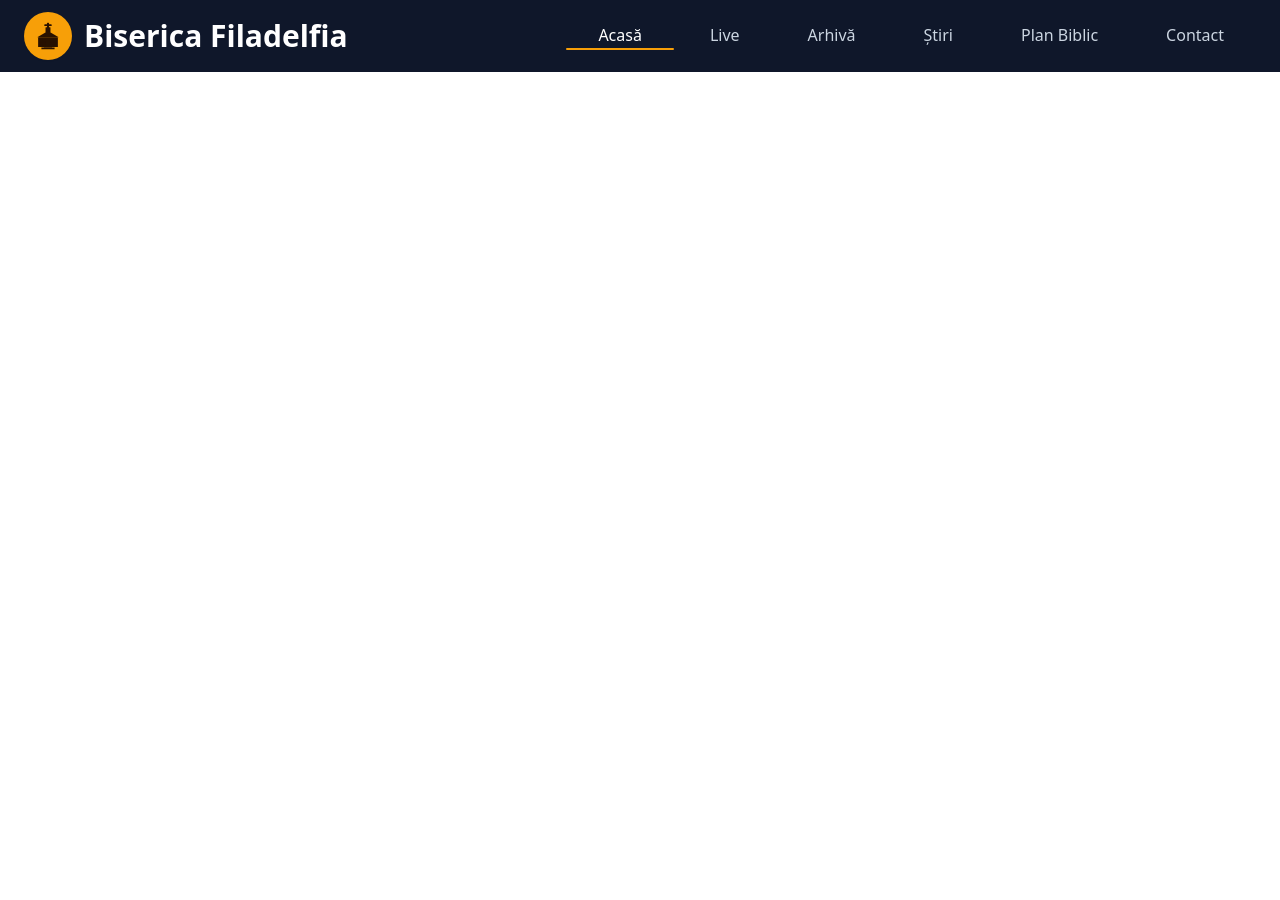
Test: Nav › closes popup when Anulează is clicked
This screenshot has width=1280, height=900.
Click the link "Arhivă": (832, 36) [776,23,888,49]
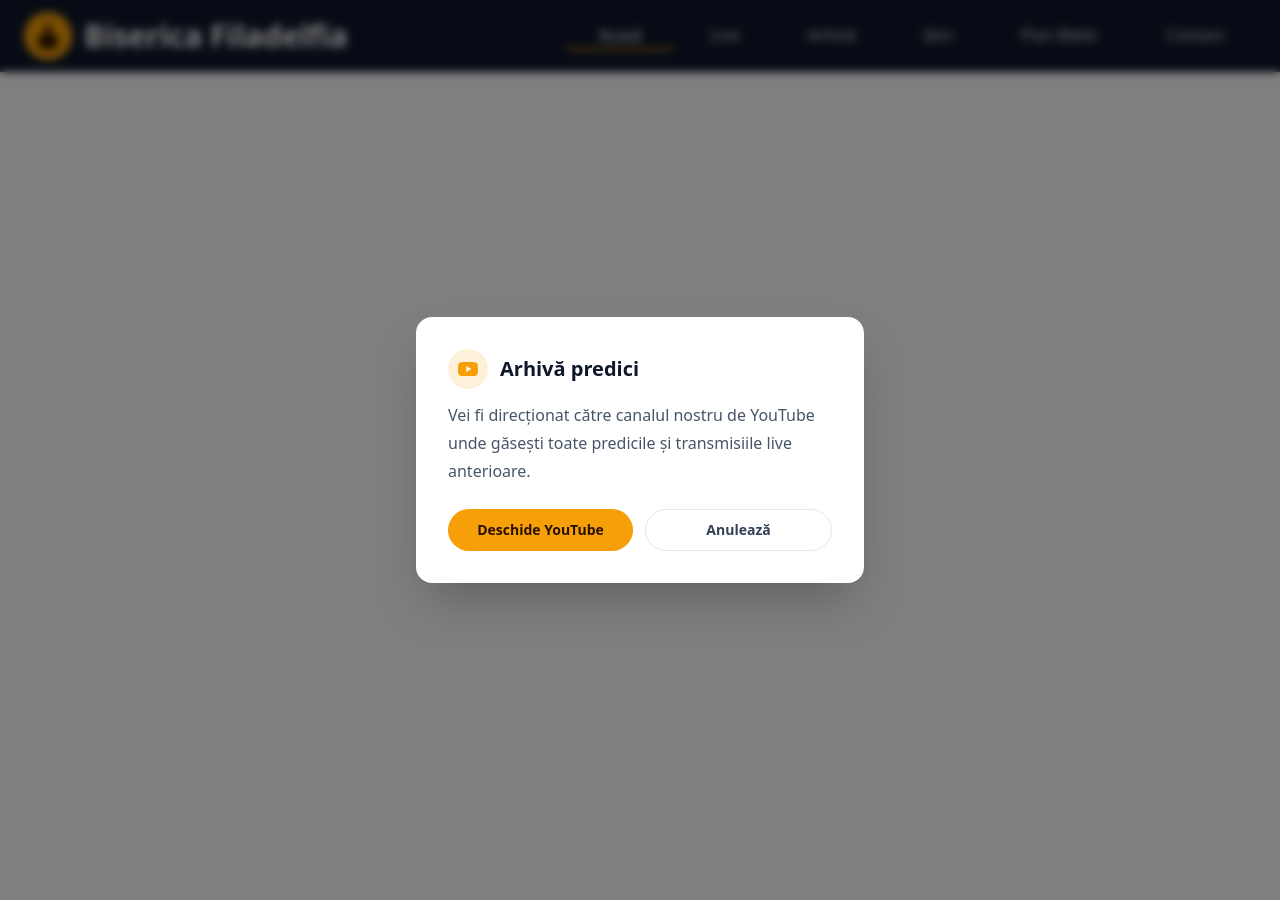
Click the button "Anulează": (738, 530) [645,509,832,551]
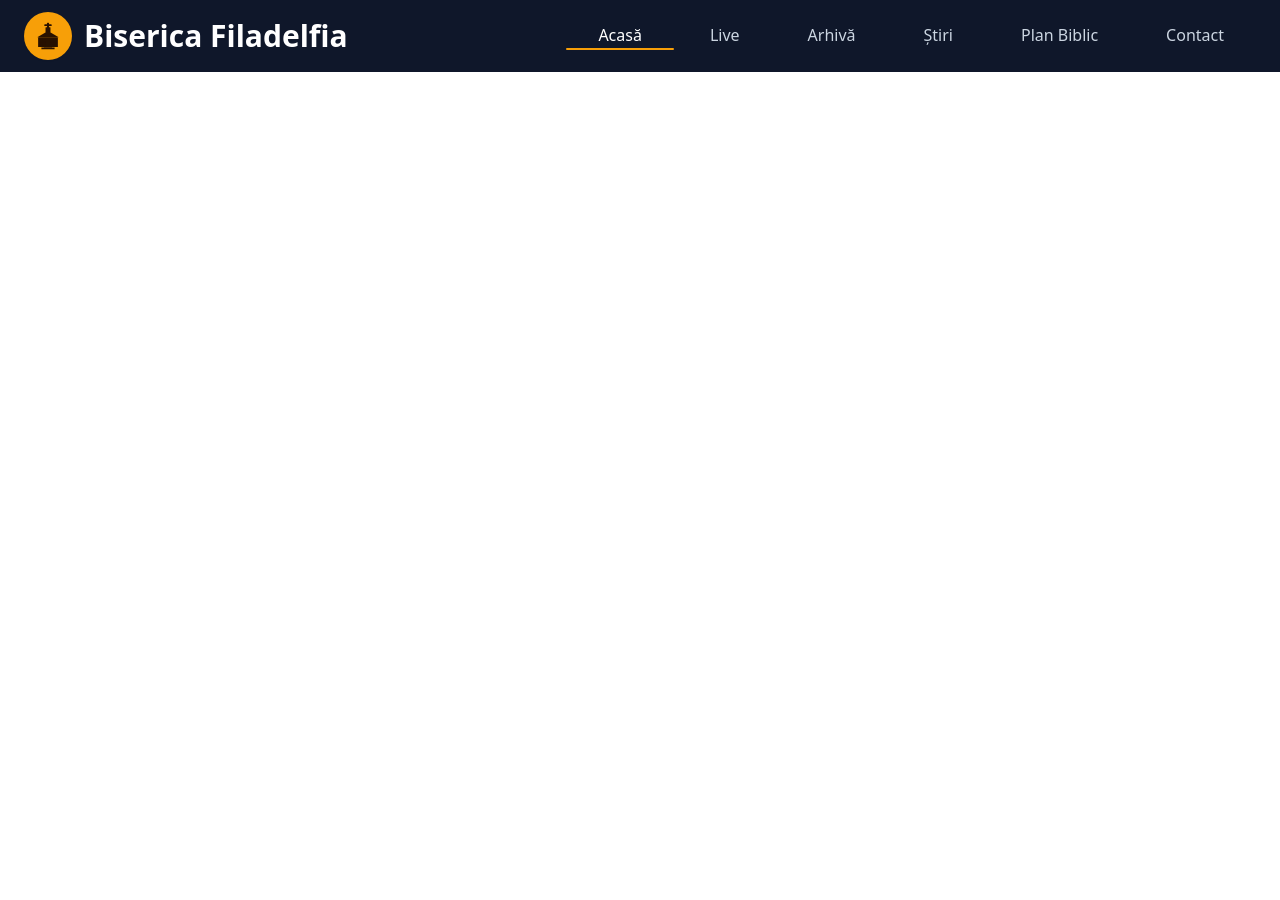
Result: the heading "Arhivă predici" is gone
